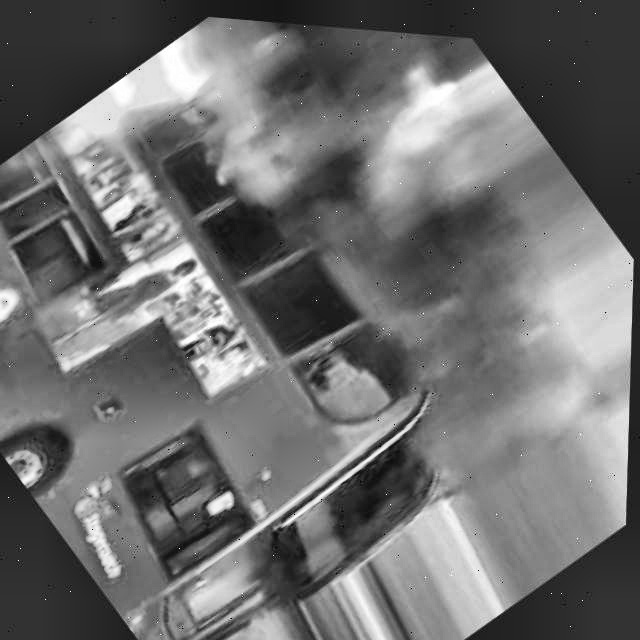Fire: (84, 21, 226, 159)
Smoke: (162, 11, 640, 459)
